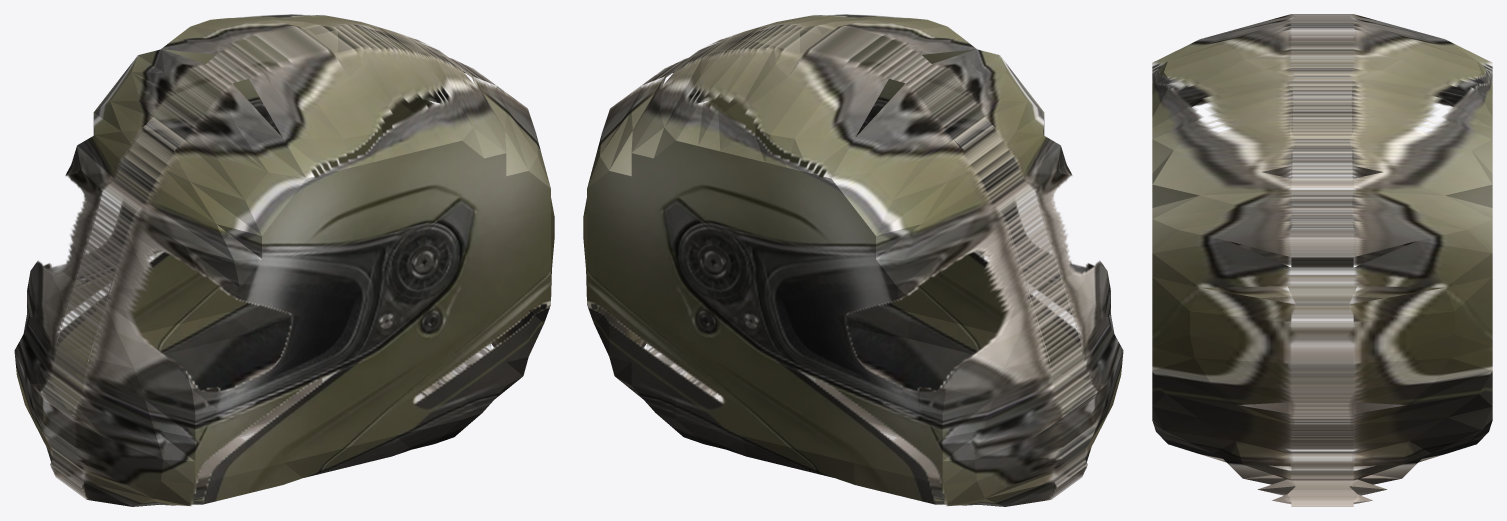
The model's file is alpinestars-circuit-urban-helmet-077.glb.
3 views of the same model, side by side, from view 1: azimuth 30°, elevation 25°; view 2: azimuth 150°, elevation 25°; view 3: azimuth 270°, elevation 25° (orthographic).
Parts seen in each view (by area): view 1: world; view 2: world; view 3: world.
Part boxes in pixels (box(x1,y1,x2,y2)): world: box(14, 14, 554, 506); world: box(583, 14, 1123, 506); world: box(1152, 14, 1492, 506).
Bounding box in the file's own units: 1 × 0.8312 × 0.64.
Materials: 1 (1 with a texture image).
